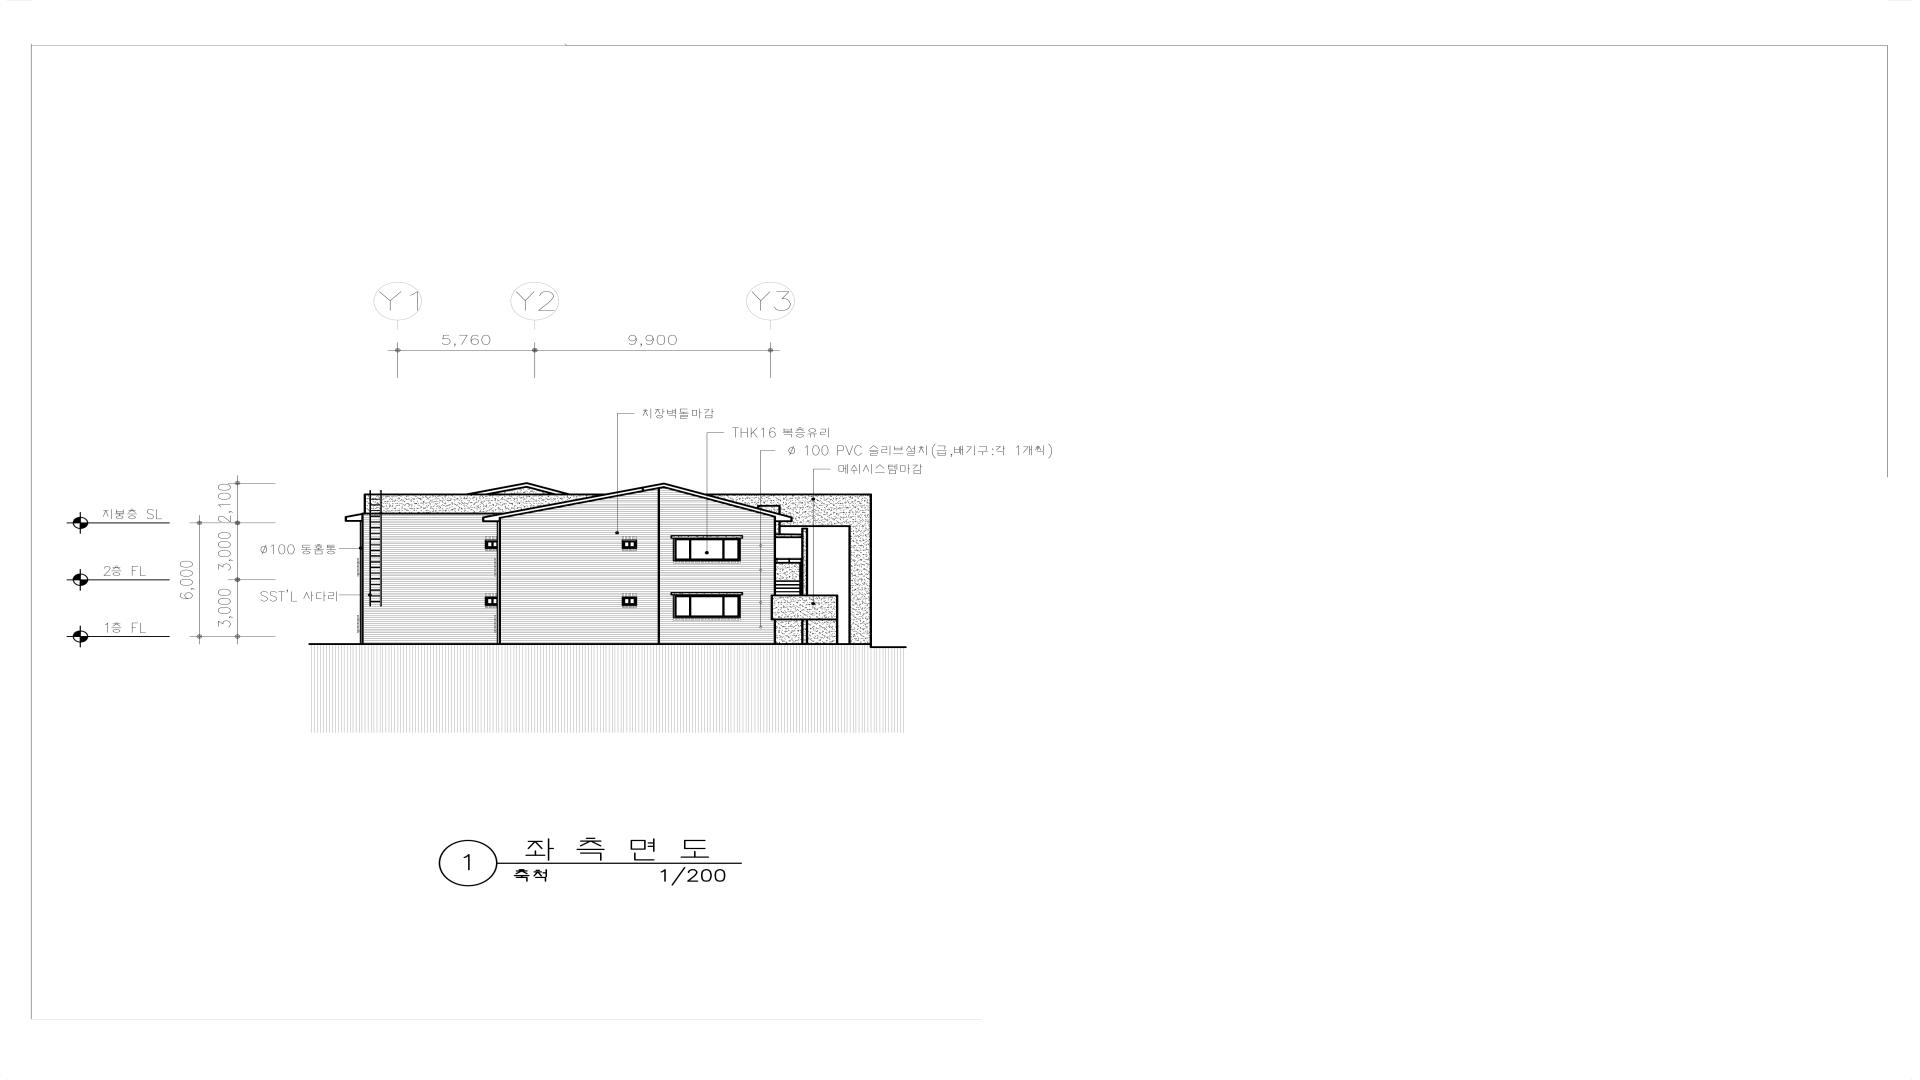wall: (344, 483, 872, 645)
window: (673, 538, 741, 562), (673, 595, 741, 617), (621, 596, 637, 605), (621, 539, 637, 549), (485, 539, 497, 549), (485, 596, 497, 605)
